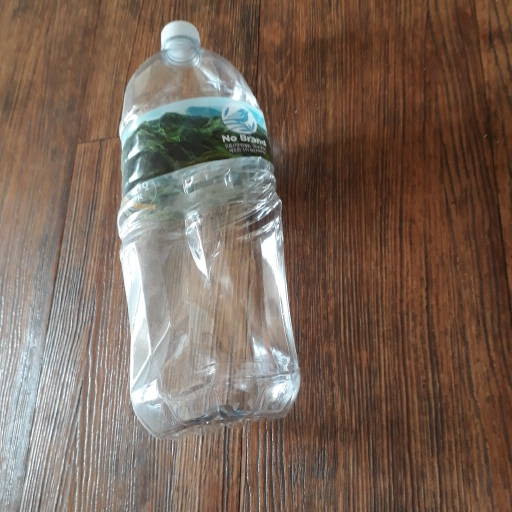Plastic_0: (112, 17, 301, 437)
